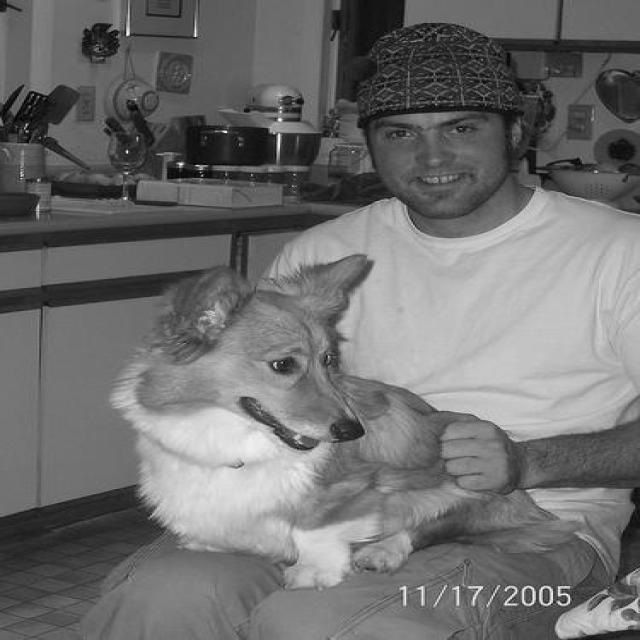sitting: (112, 249, 592, 597)
